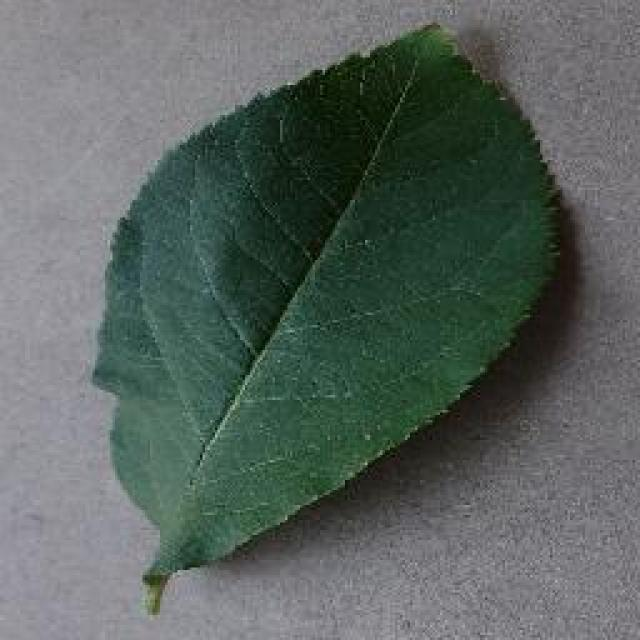apple scab disease: (87, 17, 565, 615)
